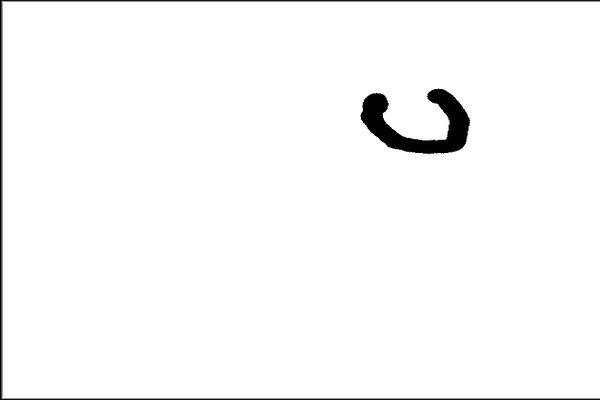U: (346, 76, 481, 163)
